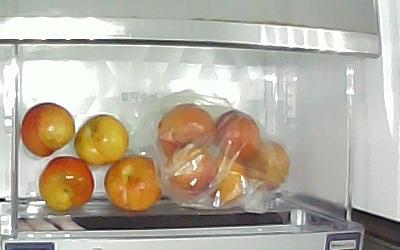prune: (104, 156, 162, 210), (20, 103, 75, 157), (39, 157, 95, 210), (74, 114, 128, 164)
prune_vinyl: (159, 105, 216, 159), (161, 143, 216, 196), (212, 111, 260, 164), (242, 141, 292, 190), (210, 154, 248, 205)
